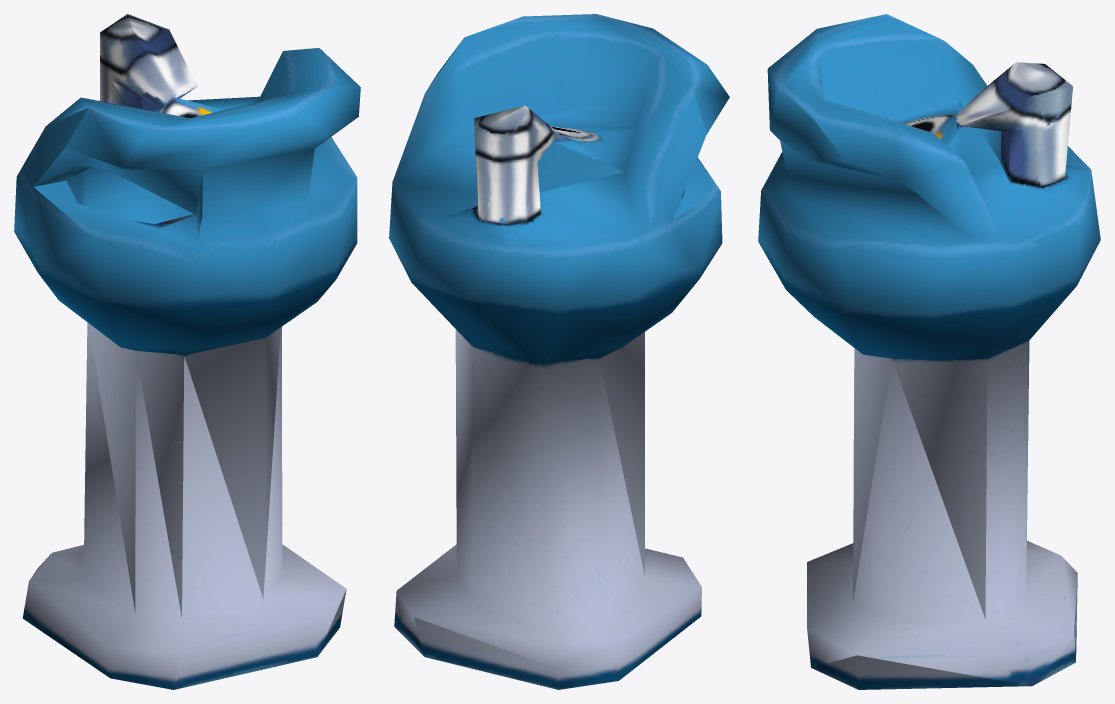
File: drinking-fountain.glb
3 views of the same model, side by side, from view 1: azimuth 30°, elevation 25°; view 2: azimuth 150°, elevation 25°; view 3: azimuth 270°, elevation 25° (orthographic). The views are drawn at different scales.
Parts seen in each view (by area): view 1: geometry_0.001; view 2: geometry_0.001; view 3: geometry_0.001.
Part boxes in pixels (x1,y1,x2,y2): geometry_0.001: (14,14,360,689); geometry_0.001: (389,14,729,689); geometry_0.001: (758,14,1100,689).
Bounding box in the file's own units: 0.5526 × 1 × 0.5503.
Materials: 1 (1 with a texture image).
